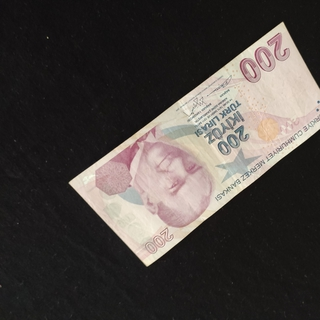200TLFront: (67, 20, 320, 266)
